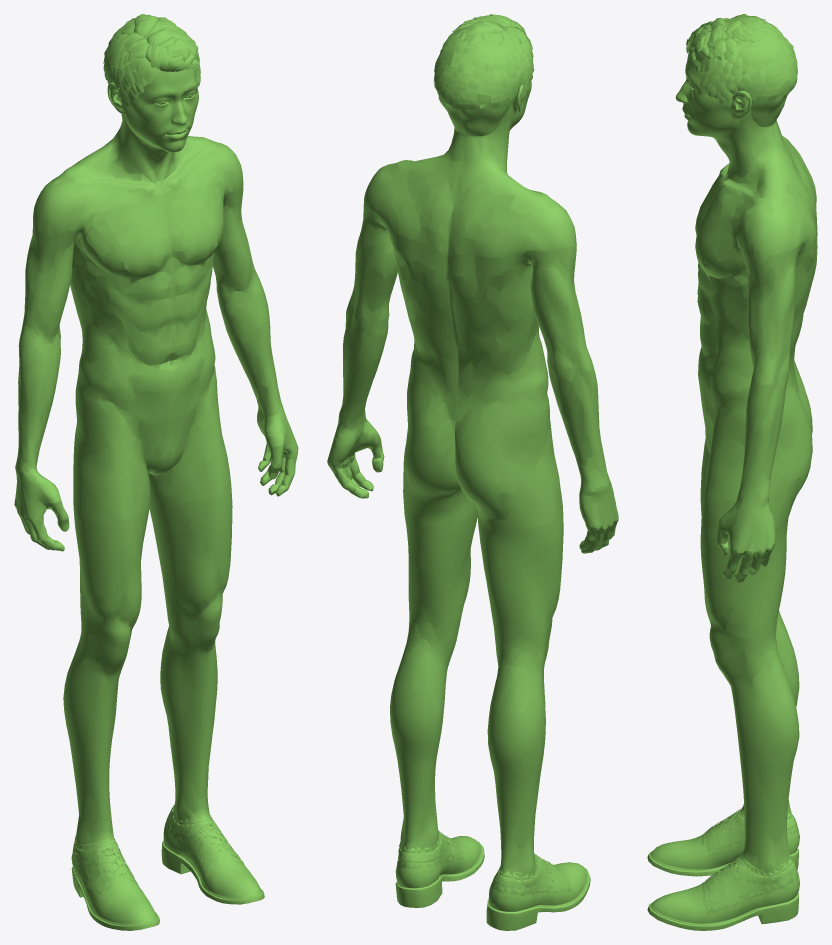
File: body3.fbx
3 renders of one model, left to right at view 1: azimuth 30°, elevation 25°; view 2: azimuth 150°, elevation 25°; view 3: azimuth 270°, elevation 25°, orthographic.
Parts seen in each view (by area): view 1: bodyShape_skin_Shape0, bodyShape_skin_Shape1, group3, shoes_l_Shape1, shoes_r_Shape1, shoes_r_Shape4, shoes_l_Shape4, shoes_l_Shape0, shoes_r_Shape0; view 2: bodyShape_skin_Shape0, bodyShape_skin_Shape1, group3, shoes_r_Shape1, shoes_l_Shape1, shoes_r_Shape0, shoes_r_Shape4, shoes_l_Shape0, shoes_l_Shape4; view 3: bodyShape_skin_Shape0, bodyShape_skin_Shape1, group3, shoes_l_Shape1, shoes_r_Shape1, shoes_l_Shape4, shoes_l_Shape0, shoes_r_Shape4, shoes_r_Shape0.
Boxes of the visible parts, x1=… form: bodyShape_skin_Shape0: x1=14, y1=144, x2=298, y2=849; bodyShape_skin_Shape1: x1=50, y1=122, x2=231, y2=519; group3: x1=103, y1=14, x2=200, y2=173; shoes_l_Shape1: x1=163, y1=807, x2=260, y2=897; shoes_r_Shape1: x1=71, y1=838, x2=156, y2=923; shoes_r_Shape4: x1=72, y1=835, x2=138, y2=904; shoes_l_Shape4: x1=166, y1=805, x2=244, y2=872; shoes_l_Shape0: x1=161, y1=840, x2=264, y2=904; shoes_r_Shape0: x1=71, y1=866, x2=159, y2=930; bodyShape_skin_Shape0: x1=327, y1=165, x2=618, y2=879; bodyShape_skin_Shape1: x1=382, y1=128, x2=562, y2=532; group3: x1=433, y1=14, x2=534, y2=164; shoes_r_Shape1: x1=488, y1=856, x2=587, y2=911; shoes_l_Shape1: x1=395, y1=833, x2=480, y2=888; shoes_r_Shape0: x1=486, y1=868, x2=590, y2=930; shoes_r_Shape4: x1=491, y1=853, x2=571, y2=895; shoes_l_Shape0: x1=395, y1=841, x2=484, y2=907; shoes_l_Shape4: x1=397, y1=830, x2=464, y2=868; bodyShape_skin_Shape0: x1=700, y1=160, x2=811, y2=876; bodyShape_skin_Shape1: x1=695, y1=120, x2=817, y2=525; group3: x1=675, y1=14, x2=797, y2=172; shoes_l_Shape1: x1=652, y1=857, x2=799, y2=923; shoes_r_Shape1: x1=652, y1=811, x2=799, y2=869; shoes_l_Shape4: x1=701, y1=854, x2=798, y2=913; shoes_l_Shape0: x1=647, y1=893, x2=798, y2=930; shoes_r_Shape4: x1=701, y1=807, x2=798, y2=857; shoes_r_Shape0: x1=647, y1=848, x2=798, y2=876.
Bounding box in the file's own units: 6.39 × 19.37 × 3.42.
